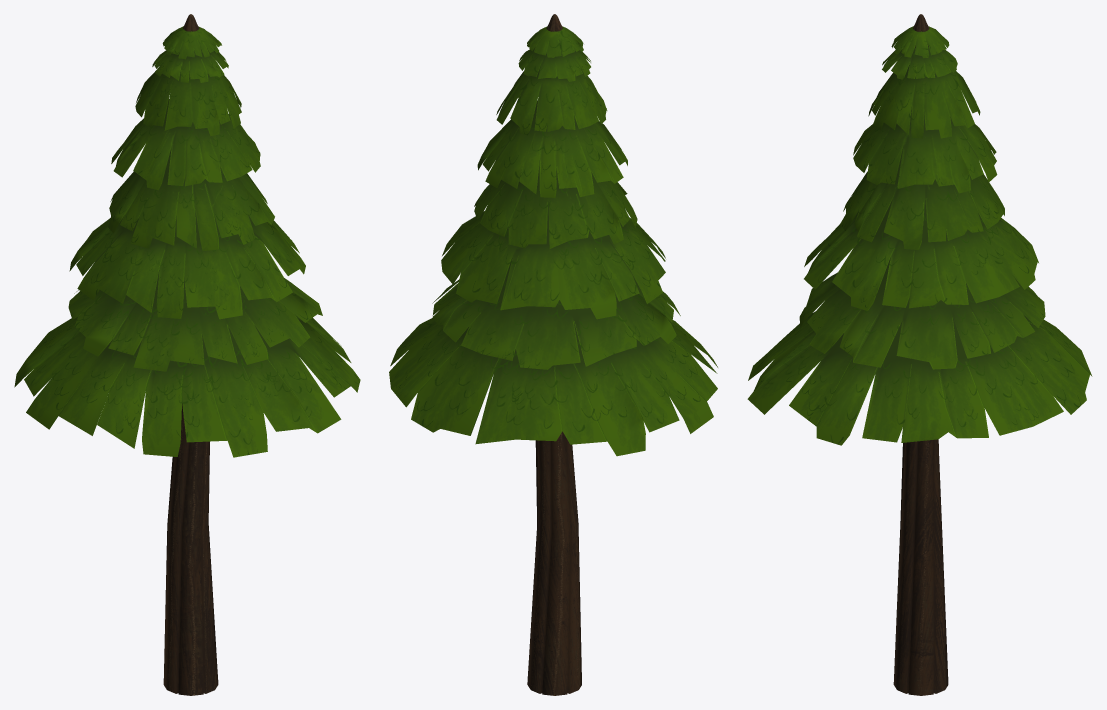
Rendered from pinetree.obj.
3 views of the same model, side by side, from view 1: azimuth 30°, elevation 25°; view 2: azimuth 150°, elevation 25°; view 3: azimuth 270°, elevation 25° (orthographic).
Parts seen in each view (by area): view 1: Cone.008, Cylinder; view 2: Cone.008, Cylinder; view 3: Cone.008, Cylinder.
Boxes of the visible parts, <box> form: Cone.008: <box>14,26,360,457</box>; Cylinder: <box>163,14,218,695</box>; Cone.008: <box>389,26,717,456</box>; Cylinder: <box>527,14,581,695</box>; Cone.008: <box>747,26,1092,445</box>; Cylinder: <box>893,14,948,695</box>.
Bounding box in the file's own units: 1.32 × 2.9 × 1.35.
Materials: 2 (2 with a texture image).
